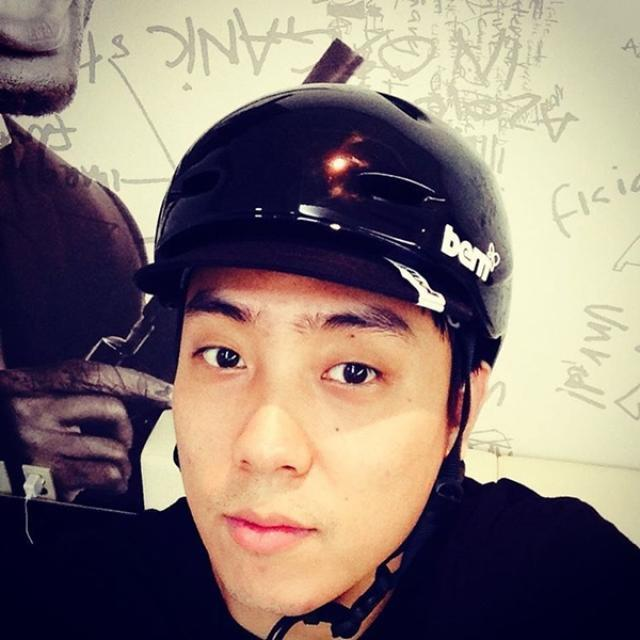helmet: (134, 86, 514, 624)
